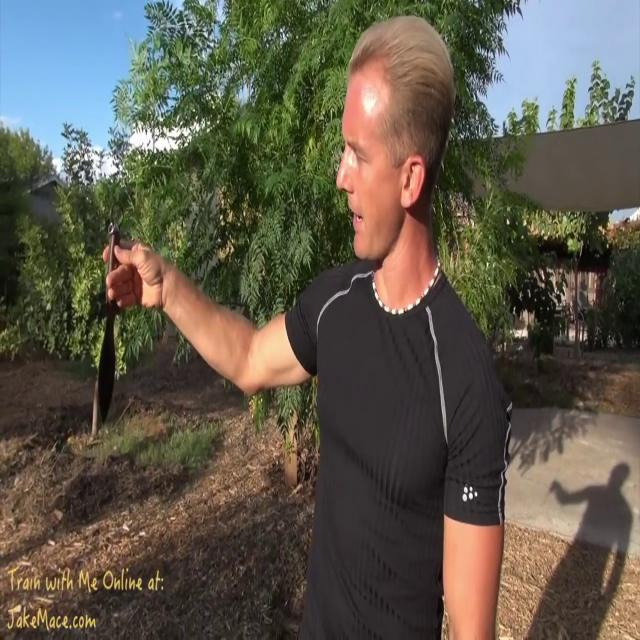knife: (86, 208, 143, 440)
